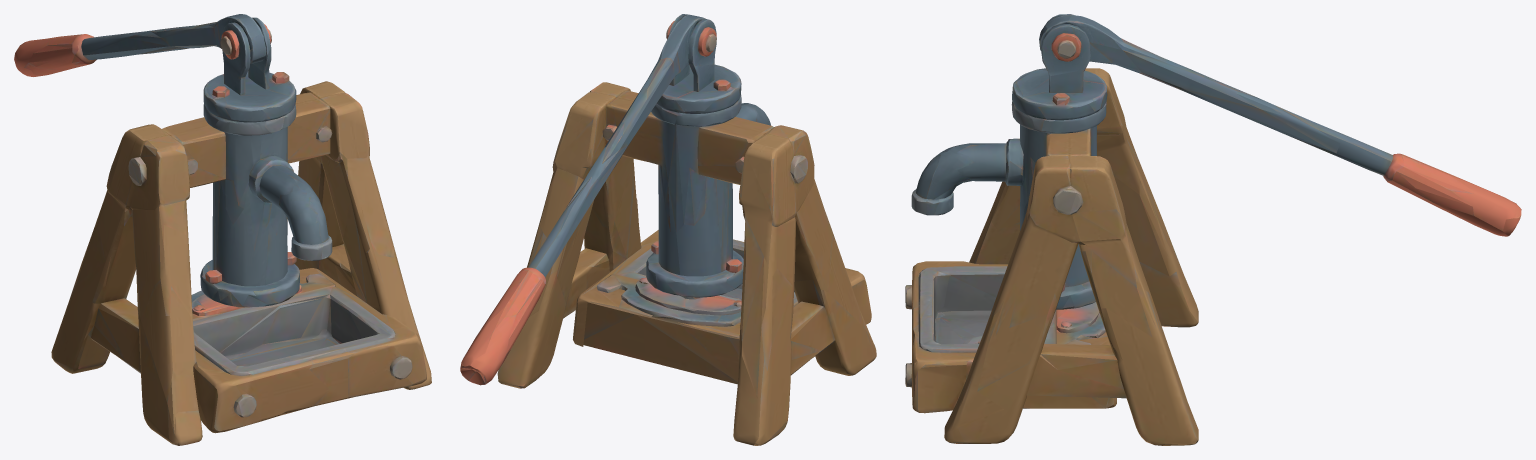
File: waterPump.glb
3 views of the same model, side by side, from view 1: azimuth 30°, elevation 25°; view 2: azimuth 150°, elevation 25°; view 3: azimuth 270°, elevation 25° (orthographic). The views are drawn at different scales.
Visible parts, largest first — view 1: Mesh_0; view 2: Mesh_0; view 3: Mesh_0.
Boxes of the visible parts, x1,y1,x2,y2 form: Mesh_0: (14,14,431,445); Mesh_0: (460,14,876,445); Mesh_0: (905,14,1521,445).
Bounding box in the file's own units: 0.4413 × 0.5517 × 0.85.
1 material, 1 textured.
